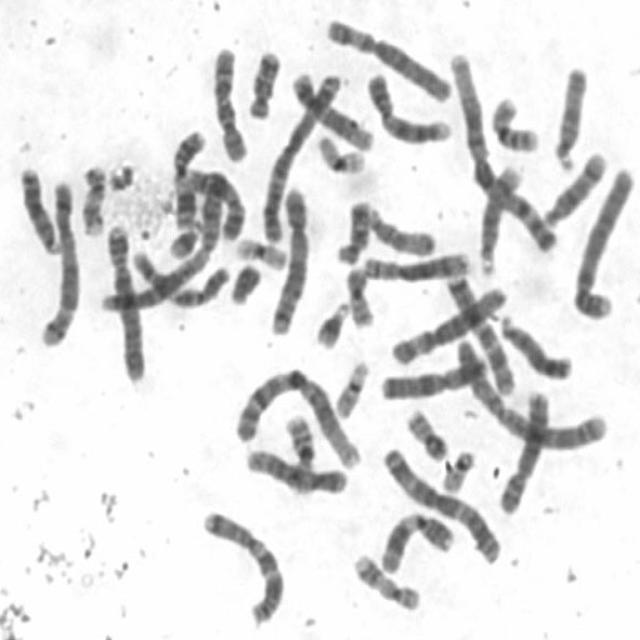A1: (443, 42, 561, 258), (231, 362, 364, 472)
A2: (455, 335, 611, 453), (94, 179, 225, 315)
A3: (376, 442, 504, 566), (256, 66, 344, 246)
B4: (570, 160, 636, 324), (103, 216, 148, 385)
B5: (36, 176, 81, 350), (265, 182, 312, 338)
C10: (127, 245, 230, 311), (207, 40, 250, 165)
C11: (377, 508, 457, 576), (168, 125, 209, 231)
C12: (287, 67, 377, 155), (243, 447, 349, 498)
C6: (322, 11, 454, 105), (386, 282, 510, 368)
C7: (196, 502, 288, 628), (443, 270, 519, 398)
C8: (493, 385, 553, 515), (358, 246, 472, 282)
C9: (364, 67, 456, 146), (183, 164, 246, 242)
D13: (496, 310, 574, 384), (14, 160, 64, 258)
D14: (473, 159, 525, 276), (539, 146, 609, 229)
D15: (356, 199, 439, 259), (549, 58, 591, 174)
E16: (486, 91, 543, 155), (280, 406, 318, 495)
E17: (348, 548, 424, 612), (77, 156, 109, 239)
E18: (244, 44, 284, 121), (332, 196, 373, 268)
F19: (313, 129, 367, 176), (232, 232, 291, 272)
F20: (402, 402, 450, 462), (341, 262, 376, 330)
G21: (311, 296, 351, 352), (163, 214, 204, 262)
G22: (330, 356, 372, 422), (436, 444, 476, 495)
X: (376, 345, 492, 403)
Y: (225, 258, 263, 306)
